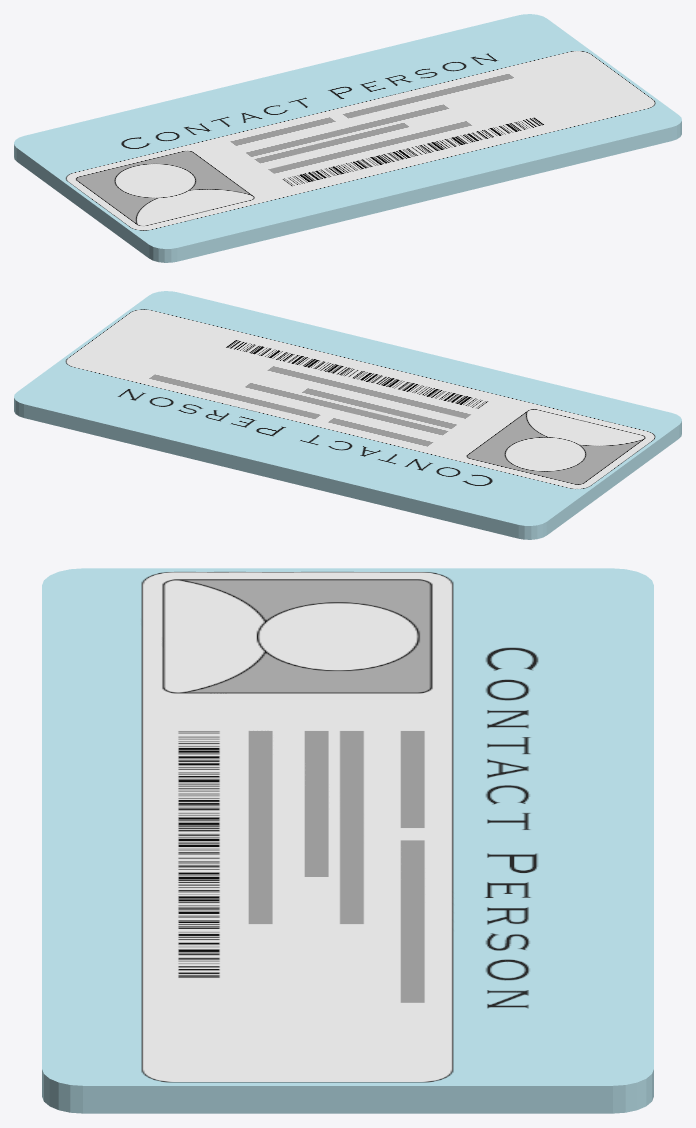
The model's file is contact_card.fbx.
The picture shows the model from 3 angles, top to bottom: view 1: azimuth 30°, elevation 25°; view 2: azimuth 150°, elevation 25°; view 3: azimuth 270°, elevation 25°; orthographic projection. The views are drawn at different scales.
Parts seen in each view (by area): view 1: Plane; view 2: Plane; view 3: Plane.
Boxes of the visible parts, left/top/right/bottom form: Plane: left=14, top=14, right=681, bottom=262; Plane: left=14, top=291, right=681, bottom=539; Plane: left=42, top=568, right=653, bottom=1113.
Bounding box in the file's own units: 10 × 0.25 × 5.
Materials: 1 (1 with a texture image).
